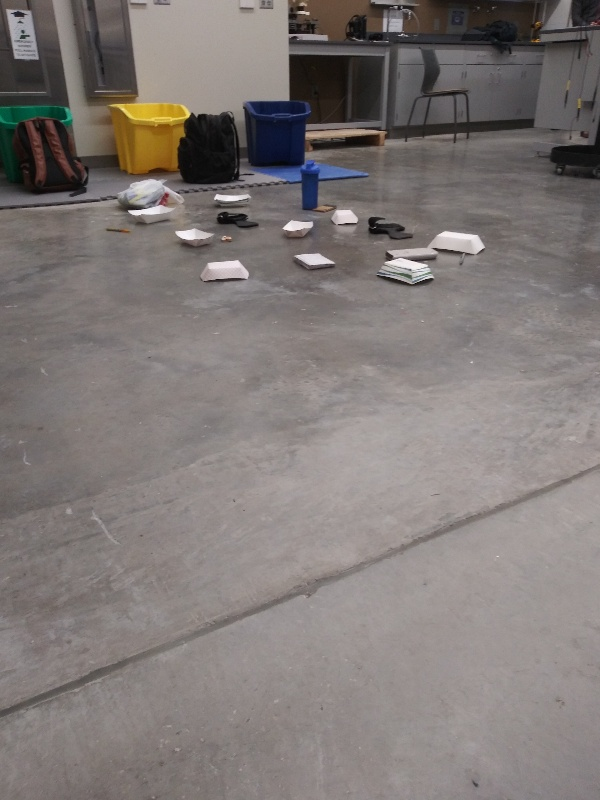plate: (373, 254, 438, 289), (424, 228, 492, 257), (124, 201, 181, 230), (194, 259, 254, 285), (170, 223, 217, 247), (209, 187, 253, 211), (275, 217, 317, 240), (326, 205, 360, 228)
